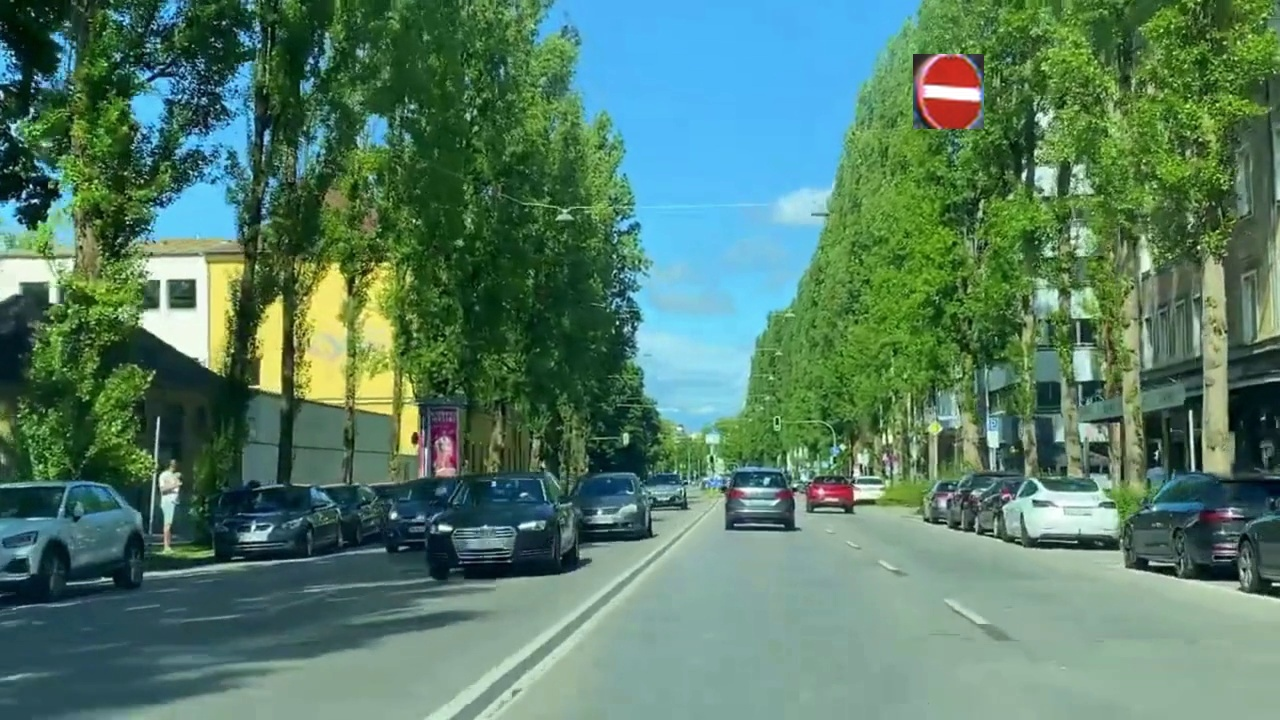No entry: (913, 54, 984, 129)
